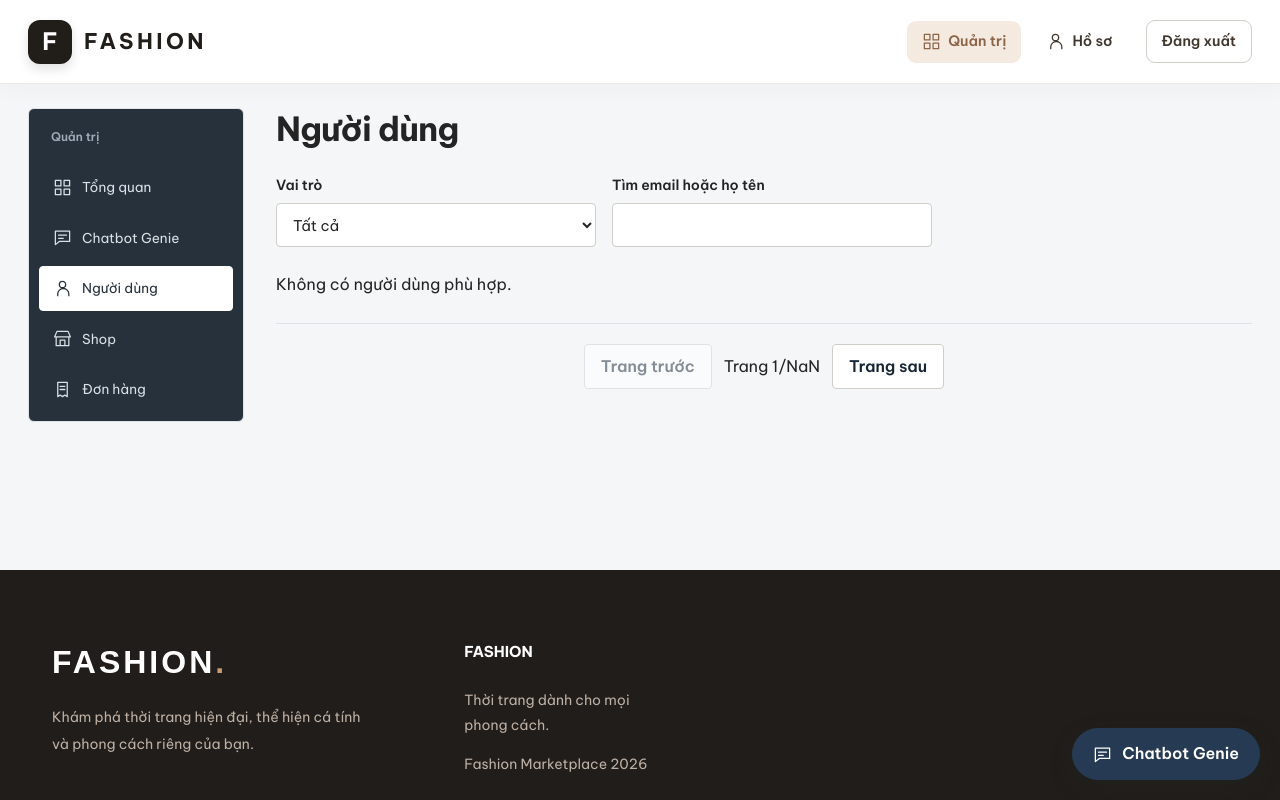
shows API errors, retries config and offers history while unavailable
This screenshot has width=1280, height=800.
Click the button with class "genie-widget-launcher" at (1166, 754), box [1072,728,1260,780]
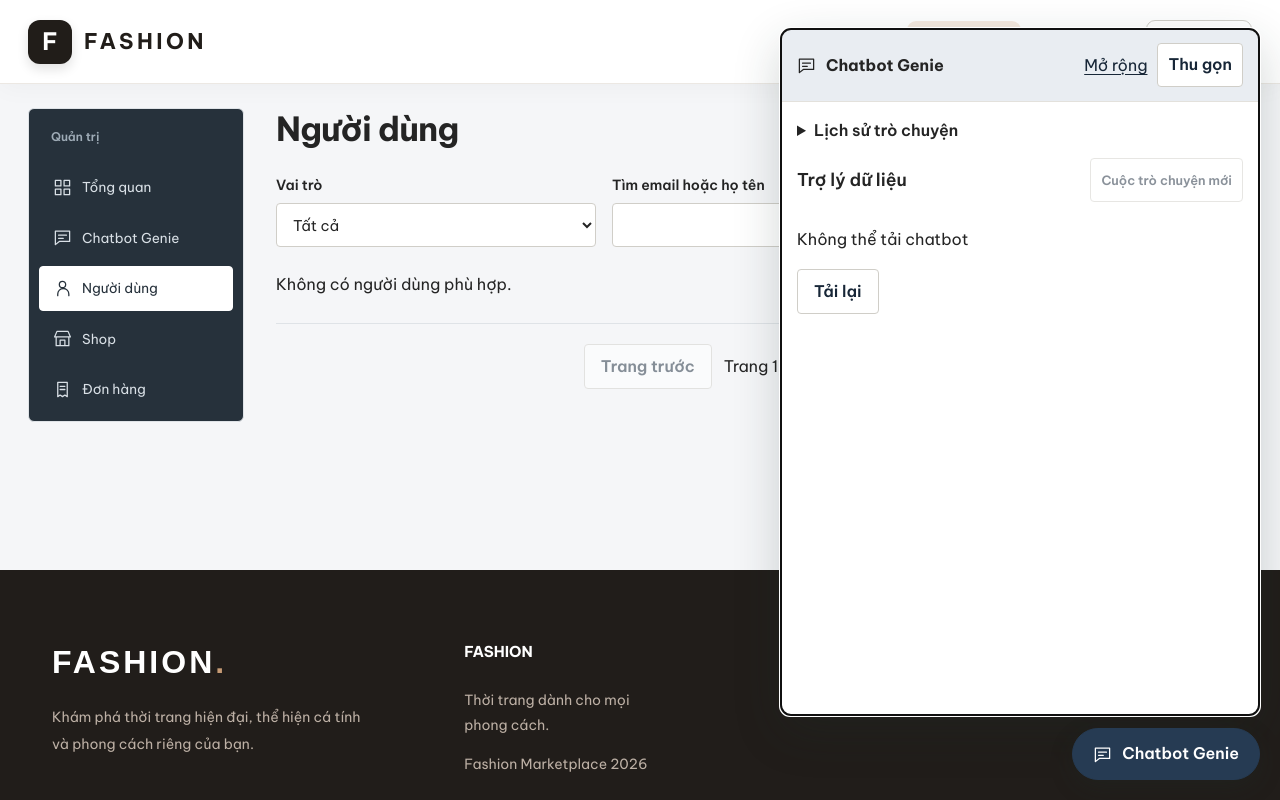
expect the message "Không thể tải chatbot" is shown: met, box [797,229,968,249]
Click the button "Tải lại" at (838, 292), box [797,269,879,314]
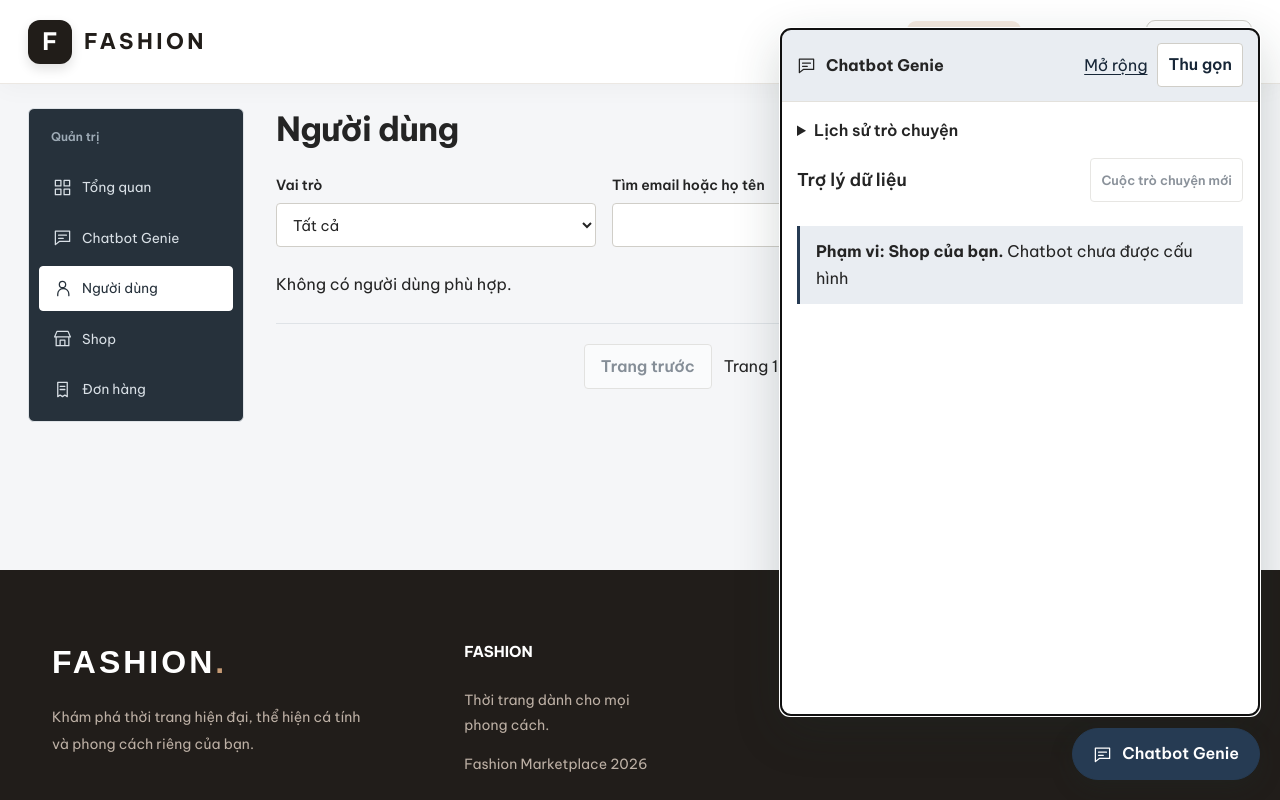
expect the element with class "genie-compact-history" is shown: met, box [814,120,958,140]
expect the text "Chatbot chưa được cấu hình" is shown: met, box [816,241,1193,288]
